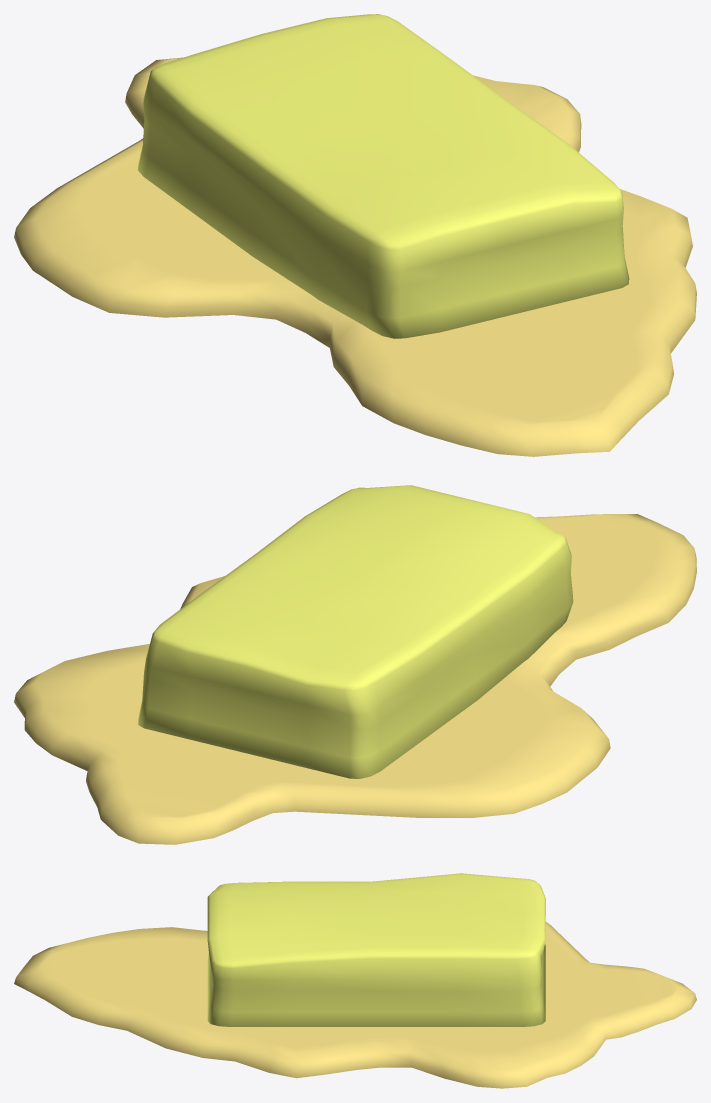
The model's file is butter.fbx.
The picture shows the model from 3 angles, top to bottom: view 1: azimuth 30°, elevation 25°; view 2: azimuth 150°, elevation 25°; view 3: azimuth 270°, elevation 25°; orthographic projection. The views are drawn at different scales.
Visible parts, largest first — view 1: Cube, Plane.001; view 2: Cube, Plane.001; view 3: Cube, Plane.001.
Boxes of the visible parts, box(x1,y1,x2,y2) form: Cube: box(138, 14, 629, 338); Plane.001: box(14, 57, 696, 456); Cube: box(138, 485, 573, 778); Plane.001: box(14, 514, 696, 844); Cube: box(207, 873, 545, 1026); Plane.001: box(14, 922, 696, 1088).
Size of the model in its own units: 97.18 by 20.45 by 150.
